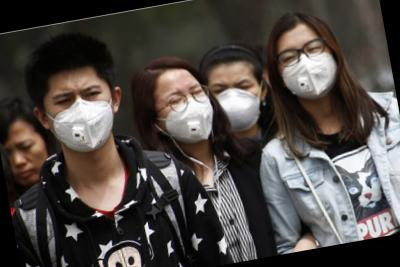with_mask: (41, 76, 122, 159), (273, 33, 344, 104), (150, 77, 219, 147), (206, 70, 270, 136)
without_mask: (0, 131, 53, 190)
